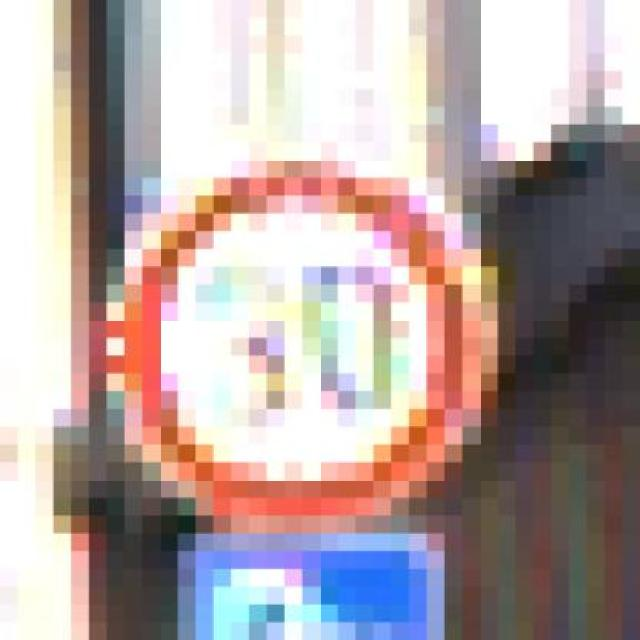Speed Limit 30 KMPh: (53, 106, 552, 534)
